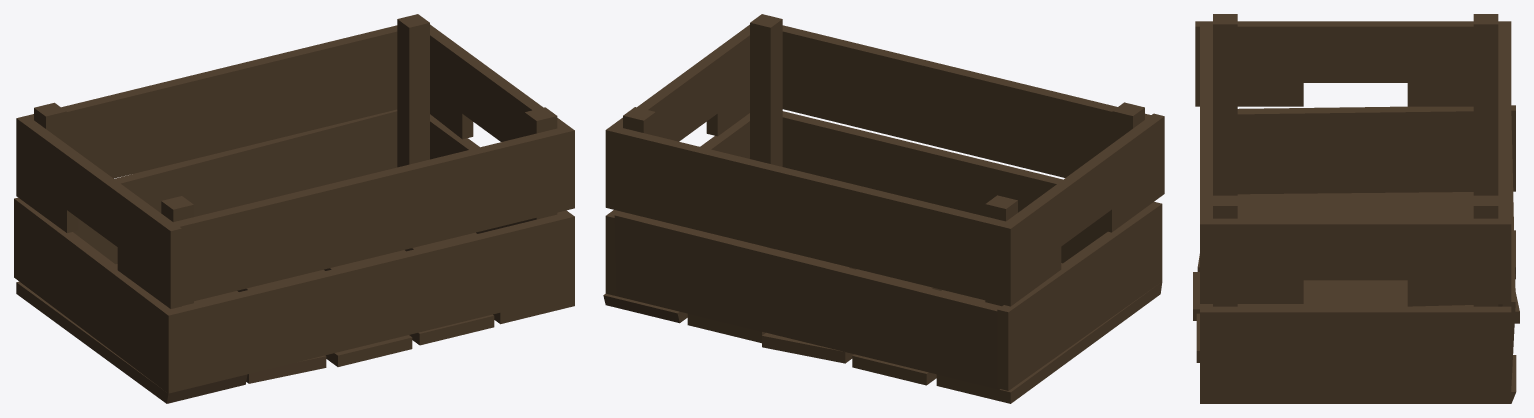
The model's file is S_Crate.fbx.
The picture shows the model from 3 angles, left to right: view 1: azimuth 30°, elevation 25°; view 2: azimuth 150°, elevation 25°; view 3: azimuth 270°, elevation 25°; orthographic projection. The views are drawn at different scales.
Visible parts, largest first — view 1: S_Crate; view 2: S_Crate; view 3: S_Crate.
Part boxes in pixels (<box>): S_Crate: <box>14,14,574,403</box>; S_Crate: <box>603,14,1164,403</box>; S_Crate: <box>1193,14,1519,403</box>.
Size of the model in its own units: 46.26 by 20.46 by 31.49.
